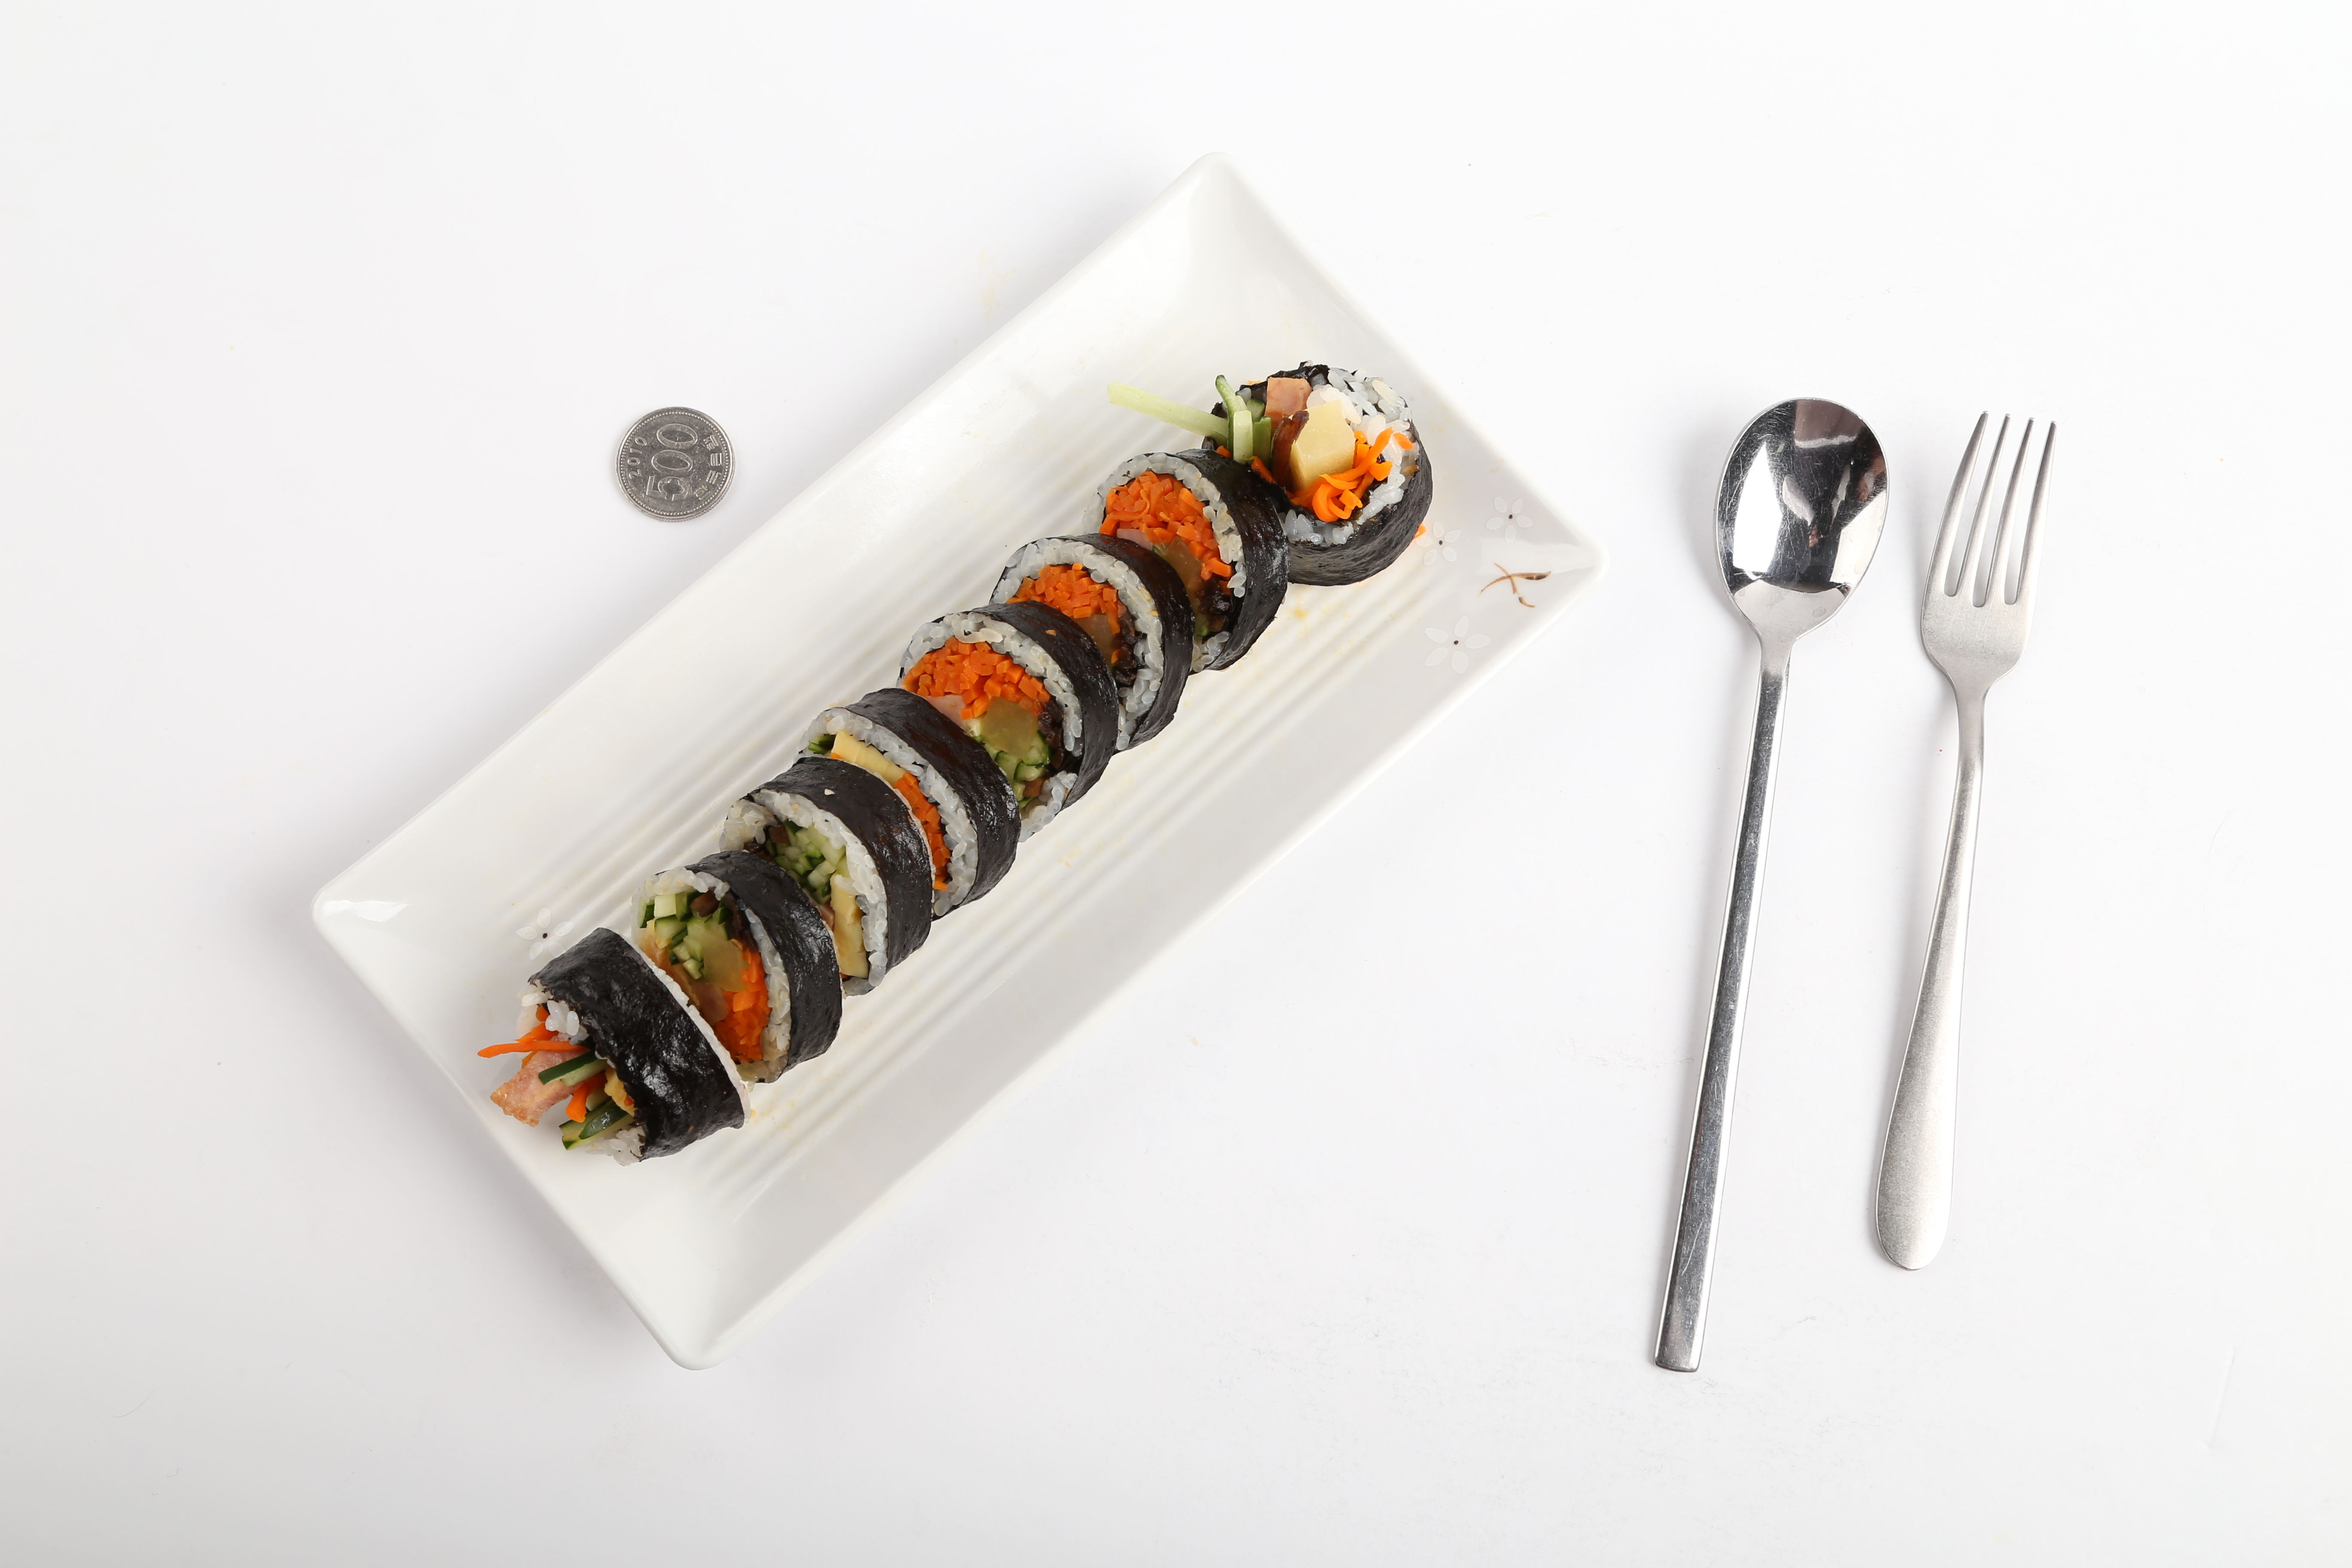dish: (310, 152, 1601, 1367)
ref_coin: (609, 397, 738, 528)
ref_fork: (1916, 406, 2061, 742)
ref_spoon: (1708, 390, 1895, 724)
김밥: (521, 360, 1435, 1155)
